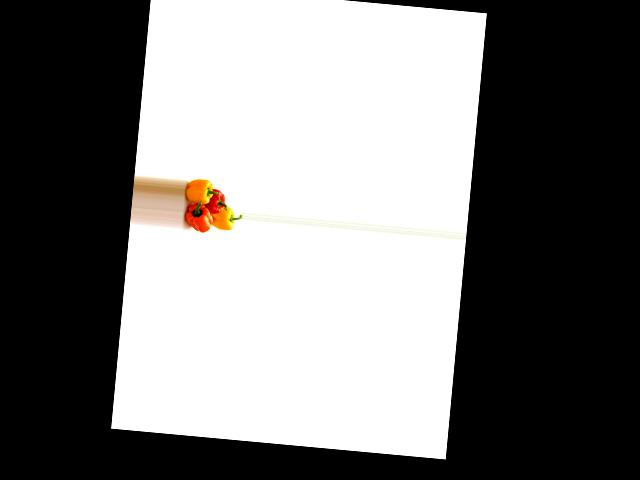bell_pepper: (183, 177, 218, 212)
